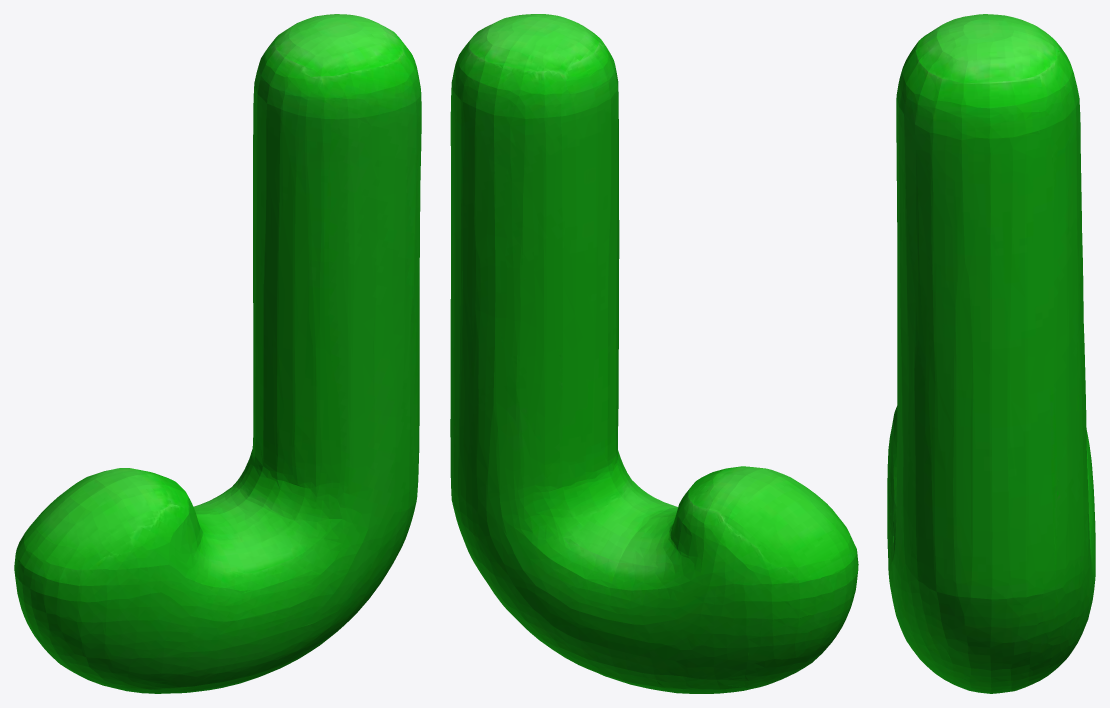
3 views of the same model, side by side, from view 1: azimuth 30°, elevation 25°; view 2: azimuth 150°, elevation 25°; view 3: azimuth 270°, elevation 25° (orthographic). The views are drawn at different scales.
Visible parts, largest first — view 1: geometry_0; view 2: geometry_0; view 3: geometry_0.
Part boxes in pixels (x1,y1,x2,y2): geometry_0: [14, 14, 421, 693]; geometry_0: [450, 14, 858, 693]; geometry_0: [887, 14, 1095, 693].
Bounding box in the file's own units: 0.6525 × 1 × 0.2698.
1 material, 1 textured.
